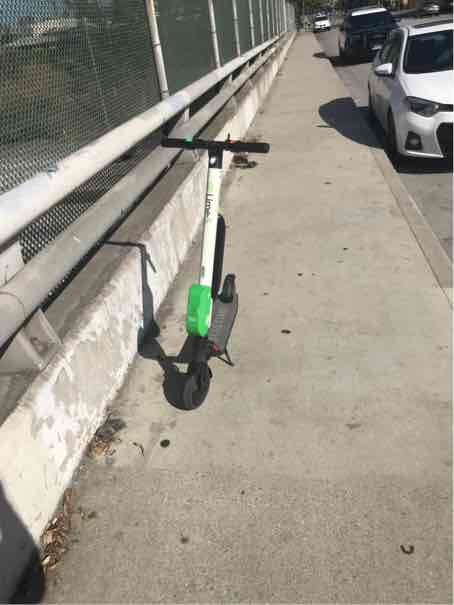scooter: (150, 131, 269, 418)
